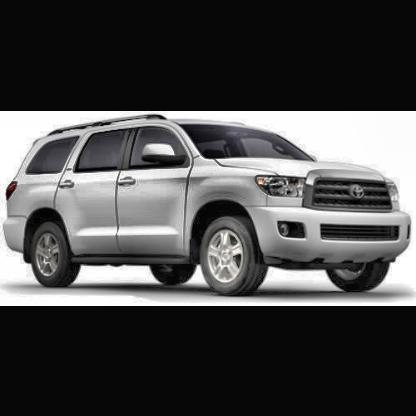Toyota Sequoia SUV 2012: (4, 112, 415, 298)
